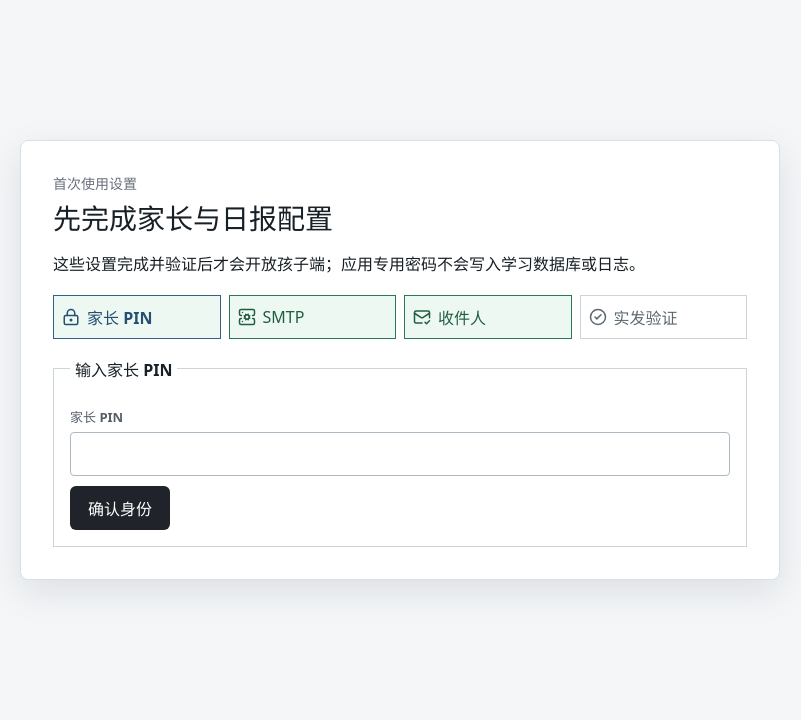
InstallationSetupWizard › shows the reauthorized address and requires explicit confirmation before creating a new email test
The image size is (801, 720).
Later steps or results of the test are not shown.
Type "2468" into the password field named "初始化家长PIN" at [400, 454], box [70,432,730,476]
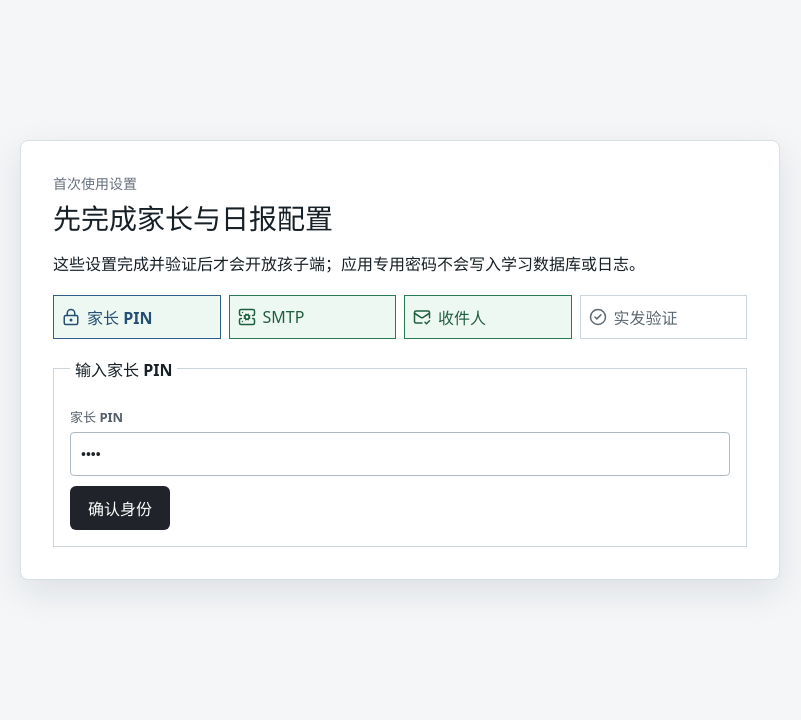
Click the button "确认身份" at [120, 508], box [70,486,170,530]
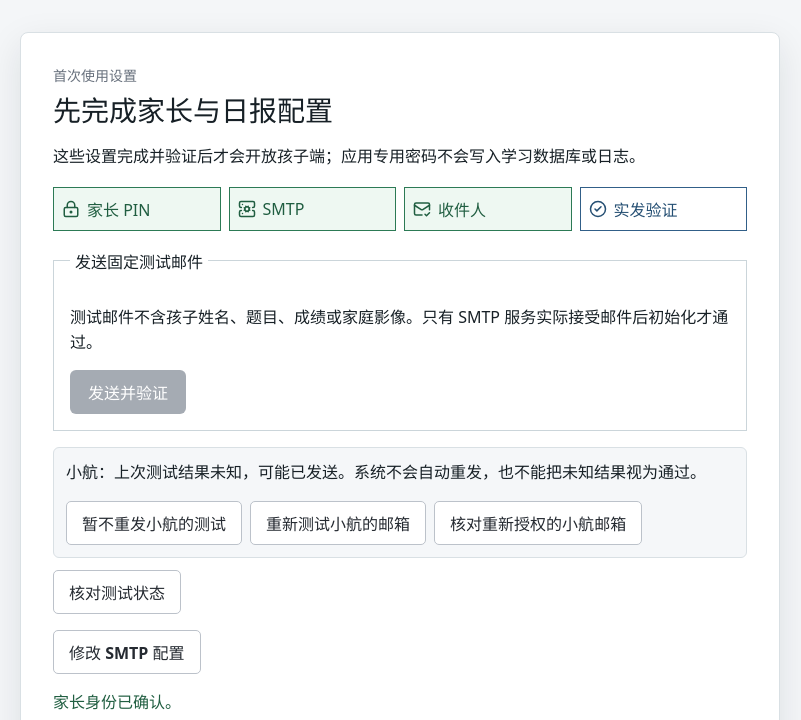
Click the button "核对重新授权的小航邮箱" at [538, 523], box [434,501,642,545]
(page scrolled)
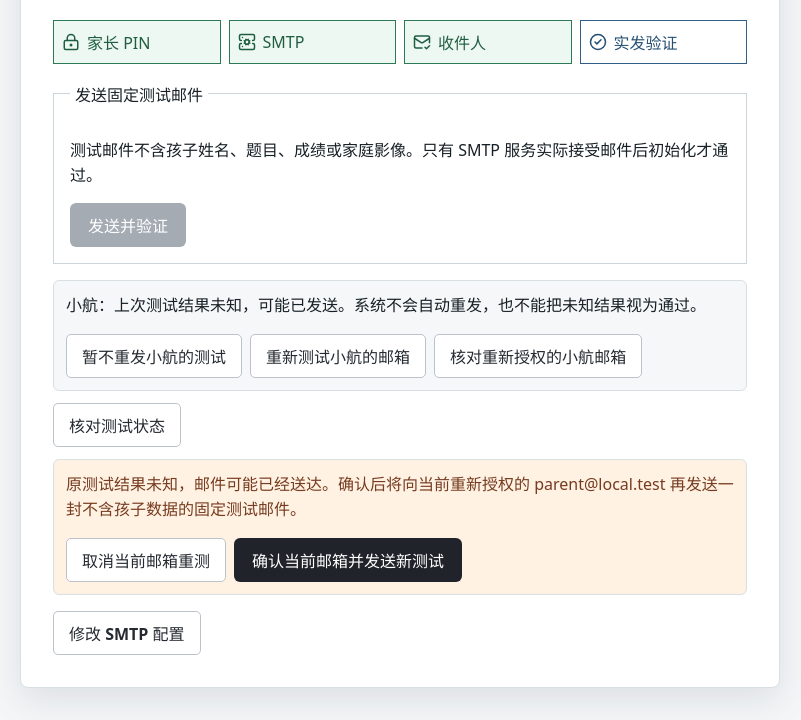
Check: the text "parent@local.test" shows "邮件可能已经送达", box [66,473,534,495]
